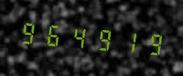four: (66, 17, 89, 55)
nine: (17, 13, 40, 51), (90, 19, 113, 57), (138, 24, 161, 62)
one: (114, 22, 137, 59)
six: (41, 15, 64, 53)
